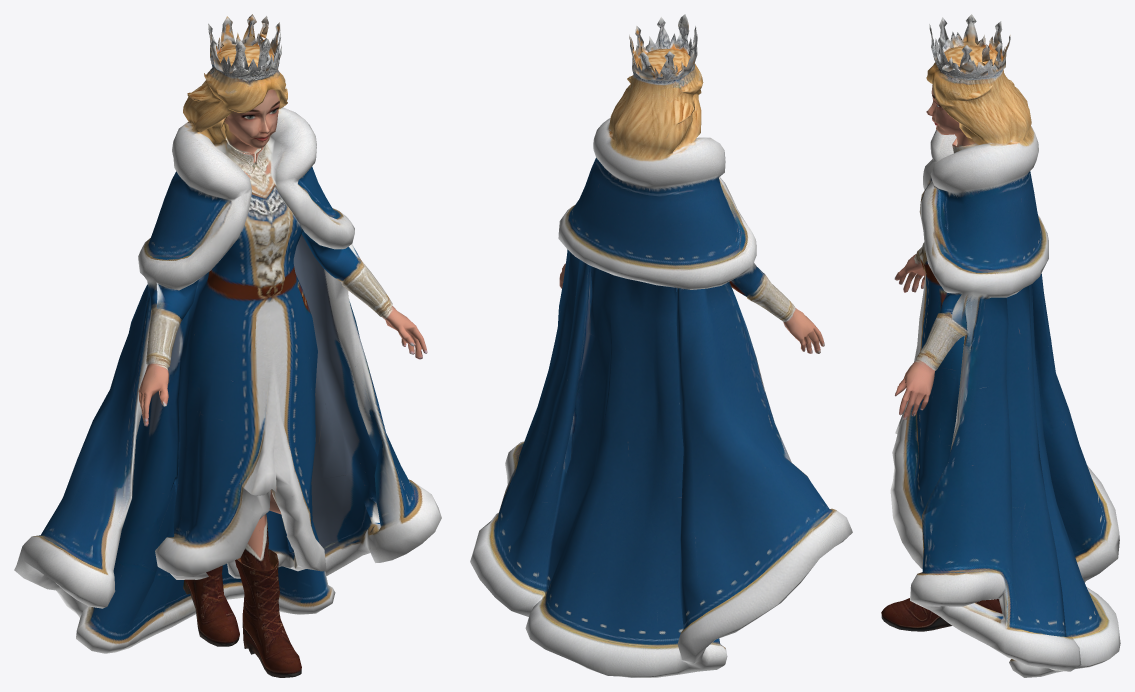
The model's file is vanessa.glb.
The picture shows the model from 3 angles, left to right: view 1: azimuth 30°, elevation 25°; view 2: azimuth 150°, elevation 25°; view 3: azimuth 270°, elevation 25°; orthographic projection. The views are drawn at different scales.
Size of the model in its own units: 0.5786 by 0.9512 by 0.3325.
Materials: 1 (1 with a texture image).
